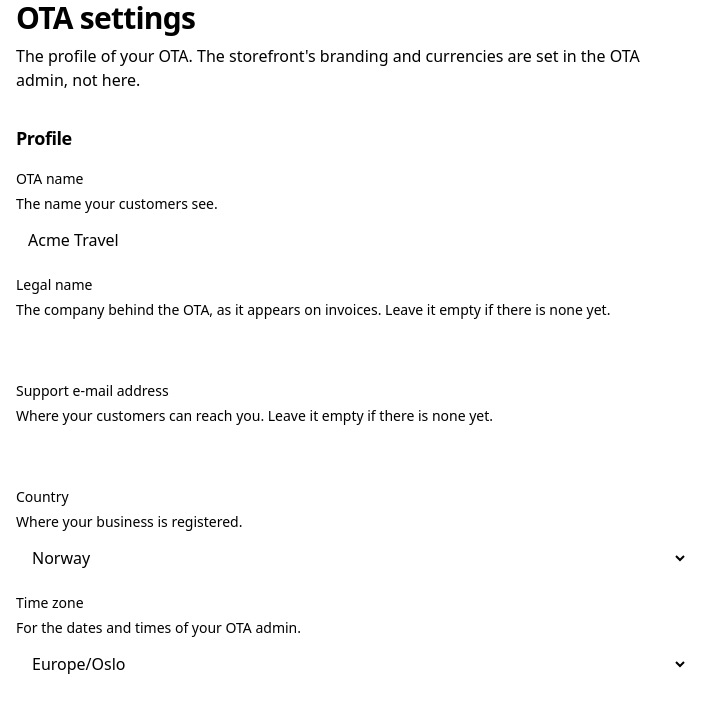
Test: /otas/[tenantId]/settings: the OTA profile › opened by an owner, with answers that refuse the save › keeps what was typed and asks to reload when someone else changed the profile (PRECONDITION_FAILED)
Replace the text in the field labelled "OTA name" with "Acme Holidays" at (352, 240), box top-left (16, 222), bottom-right (688, 258)
(page scrolled)
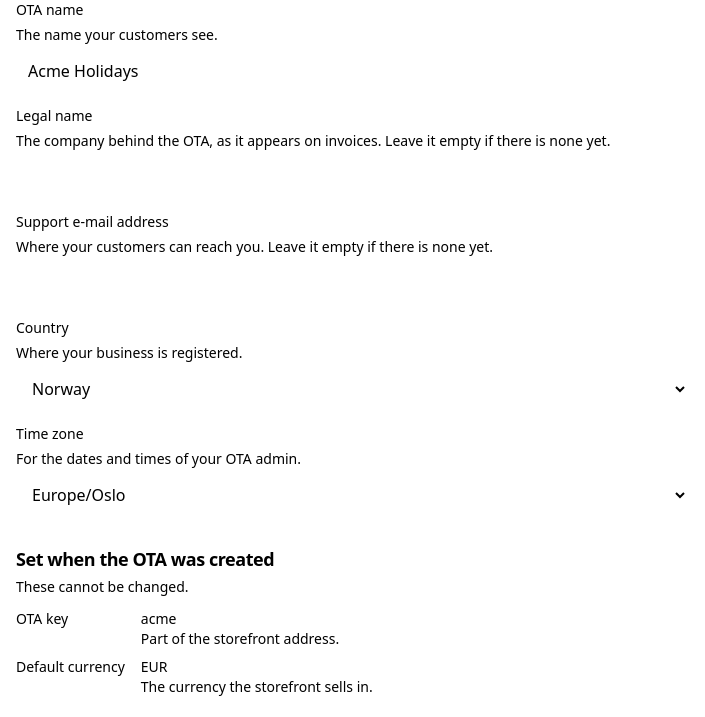
Submit the form
(page scrolled)
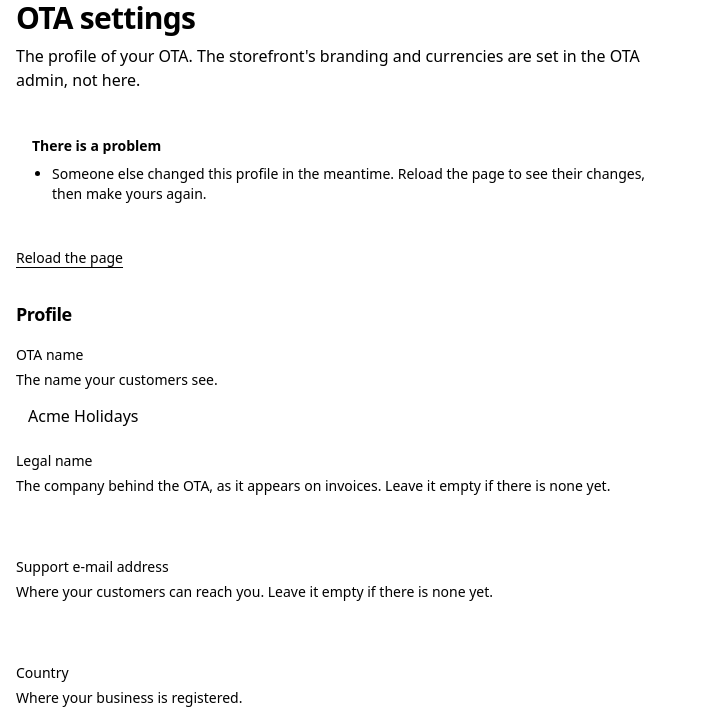
Result: the message is shown at top-left (16, 124), bottom-right (688, 216)
